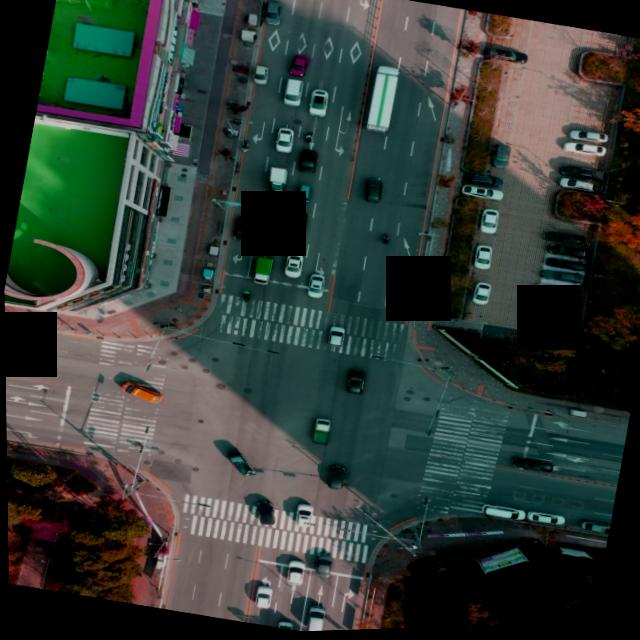car: (116, 378, 164, 406), (560, 140, 610, 163), (557, 164, 606, 187), (482, 47, 528, 71), (538, 268, 586, 289), (540, 230, 585, 252), (566, 128, 610, 149), (508, 456, 554, 476), (532, 283, 578, 303), (543, 257, 585, 277), (251, 499, 277, 529), (281, 77, 306, 108), (463, 185, 504, 203), (465, 173, 503, 192), (546, 244, 586, 262), (362, 177, 386, 206), (478, 209, 501, 239), (343, 369, 368, 396), (291, 503, 315, 531), (488, 146, 513, 172), (282, 560, 306, 587), (324, 466, 348, 493), (260, 202, 283, 230), (309, 90, 331, 119), (305, 273, 328, 300), (558, 180, 596, 196), (470, 283, 494, 308), (252, 583, 275, 609), (303, 607, 326, 633), (480, 506, 517, 522), (536, 296, 573, 312), (524, 514, 563, 529), (263, 1, 285, 27), (275, 127, 297, 153), (231, 216, 253, 242), (473, 246, 494, 273), (288, 212, 310, 237), (325, 326, 347, 350), (284, 253, 305, 278), (300, 150, 320, 176), (313, 553, 333, 579), (290, 54, 310, 78), (579, 523, 609, 539), (253, 66, 271, 87), (297, 185, 313, 205)
medium_truck: (365, 64, 405, 138)
small_truck: (222, 450, 261, 482), (307, 417, 334, 448), (252, 256, 275, 286), (267, 164, 290, 194)
